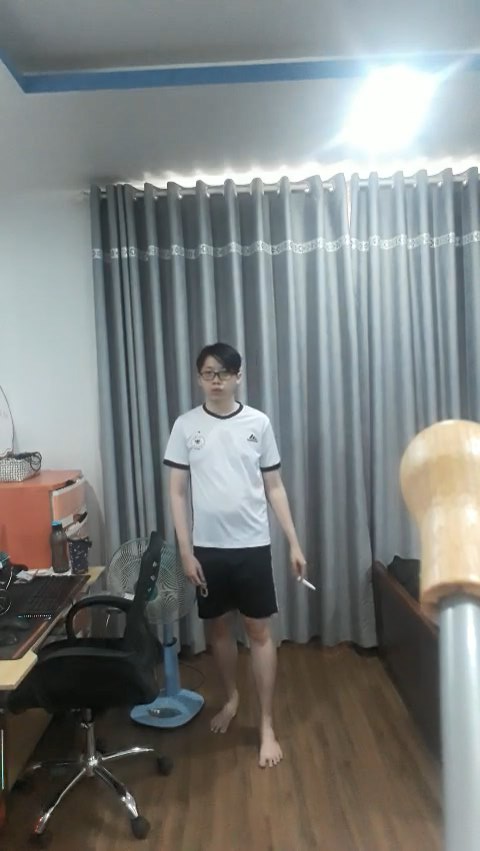cigarette: (299, 576, 316, 591)
person: (159, 340, 329, 770)
